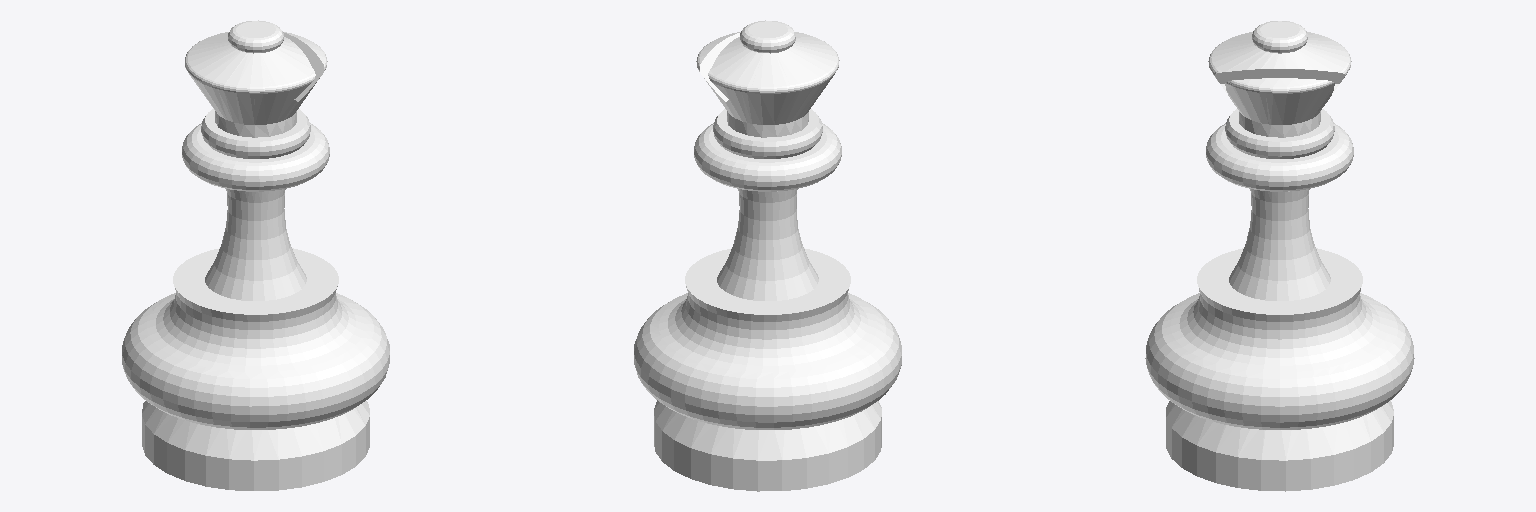
URDF robot description (Bishop_Black):
<?xml version="1.0" encoding="utf-8"?>
<!-- This URDF was automatically created by SolidWorks to URDF Exporter! Originally created by [author] ([email redacted]) 
     Commit Version: 1.5.1-0-g916b5db  Build Version: 1.5.7152.31018
     For more information, please see http://wiki.ros.org/sw_urdf_exporter -->
<robot
  name="Bishop_Black">
  <link
    name="Bishop_Black">
    <inertial>
      <origin
        xyz="-2.6036E-05 -3.79439999904566E-09 0.015586"
        rpy="0 0 0" />
      <mass
        value="0.012997" />
      <inertia
        ixx="2.7275E-06"
        ixy="2.44989999999346E-13"
        ixz="1.0685E-08"
        iyy="2.7275E-06"
        iyz="-1.47960000010899E-12"
        izz="9.4758E-07" />
    </inertial>
    <visual>
      <origin
        xyz="0 0 0"
        rpy="1.5707963267949 0 0" />
      <geometry>
        <mesh
          filename="package://Bishop_Black/meshes/Bishop_Black.STL" />
      </geometry>
      <material
        name="">
        <color
          rgba="1 1 1 1" />
        <texture
          filename="package://Bishop_Black/textures/" />
      </material>
    </visual>
    <collision>
      <origin
        xyz="0 0 0"
        rpy="1.5707963267949 0 0" />
      <geometry>
        <mesh
          filename="package://Bishop_Black/meshes/Bishop_Black.STL" />
      </geometry>
    </collision>
  </link>
</robot>

--- Facts derived from the render (not from the file) ---
3 views of the same robot in one strip: view 1: azimuth 30°, elevation 25°; view 2: azimuth 150°, elevation 25°; view 3: azimuth 270°, elevation 25° (orthographic).
Robot: Bishop_Black — 1 links, 0 joints (none); root link Bishop_Black; default pose: every joint at zero.
Links seen in each view (by area): view 1: Bishop_Black; view 2: Bishop_Black; view 3: Bishop_Black.
Boxes of the visible links, bbox=[...] form: Bishop_Black: bbox=[122, 20, 389, 490]; Bishop_Black: bbox=[634, 20, 901, 491]; Bishop_Black: bbox=[1145, 21, 1414, 491].
Size in the robot's own frame: 0.0306 by 0.0306 by 0.0518 metres.
Meshes: 1 distinct files referenced, 1 mesh visuals loaded (1 binary STL).
